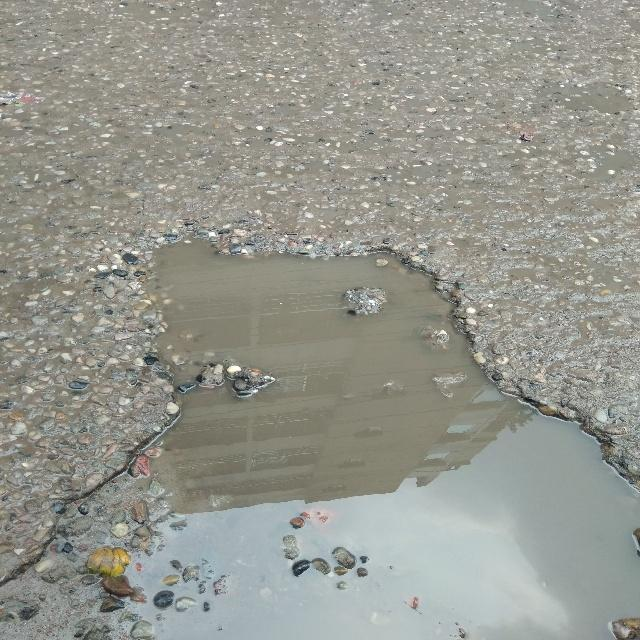Pothole: (143, 241, 553, 633)
